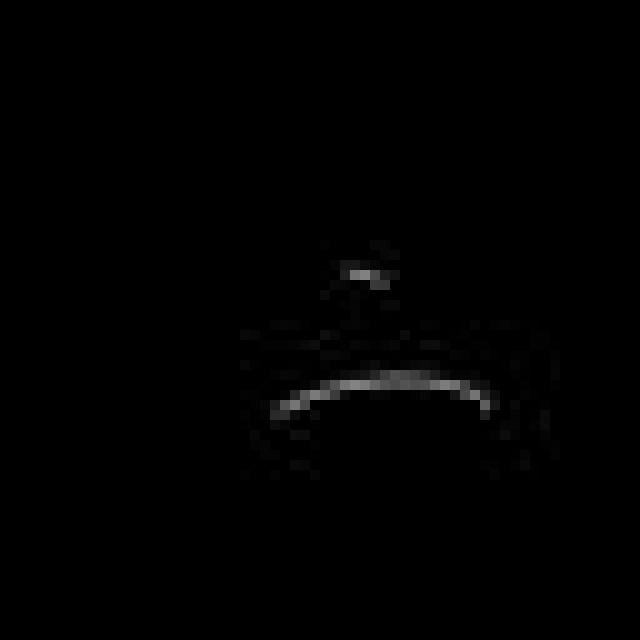2 -two-: (245, 245, 511, 444)
